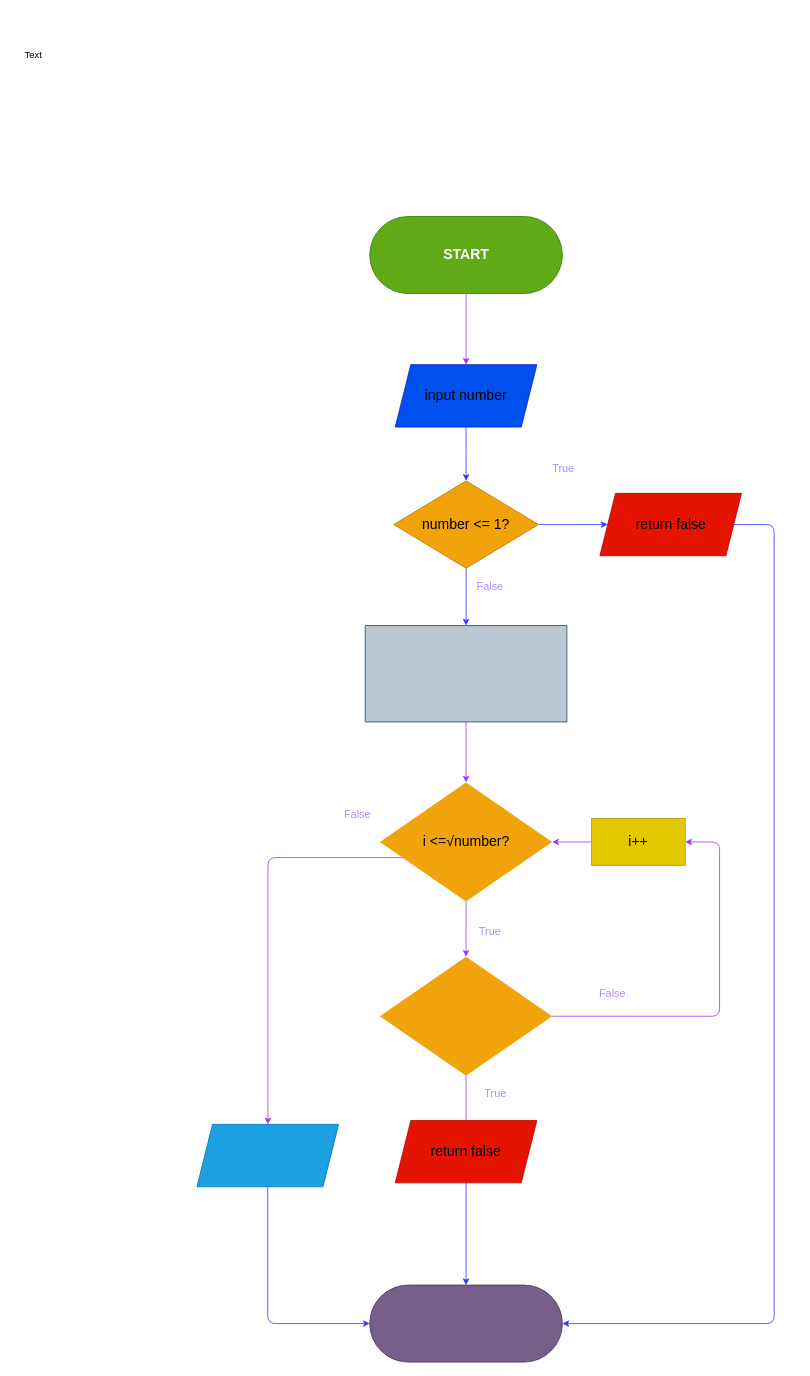
Some shapes in this 810 by 1376 pixel diagram are drawn without their labels. Here are the shapes that lost their labels. From the top down, the box of each, then its label:
(364, 625, 567, 722): initialisation iteration variable i = 2
(379, 956, 552, 1075): number % i === 0?
(196, 1124, 339, 1187): return true
(369, 1284, 562, 1362): END
